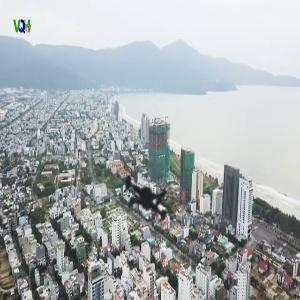drone: (58, 107, 250, 299)
